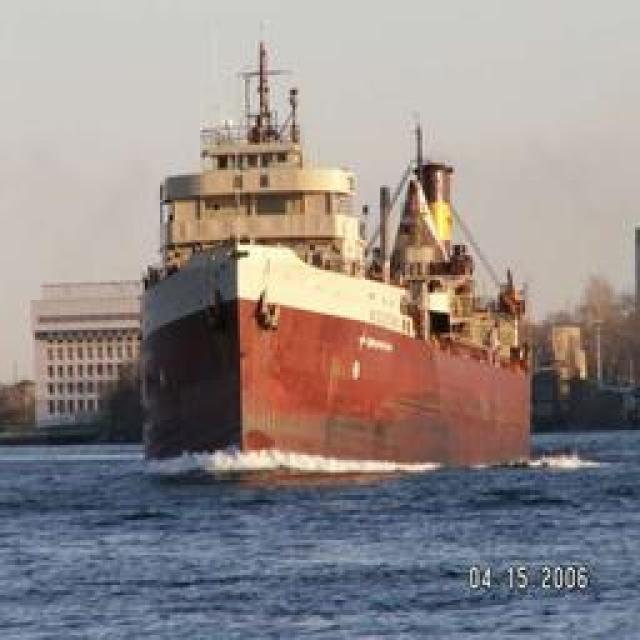ship2: (134, 42, 534, 485)
